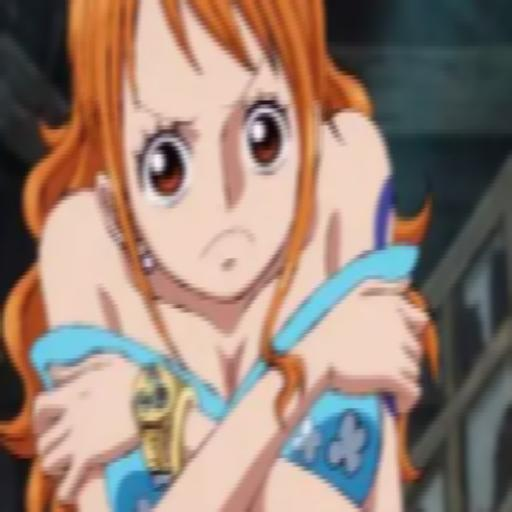Nami: (19, 0, 436, 512)
